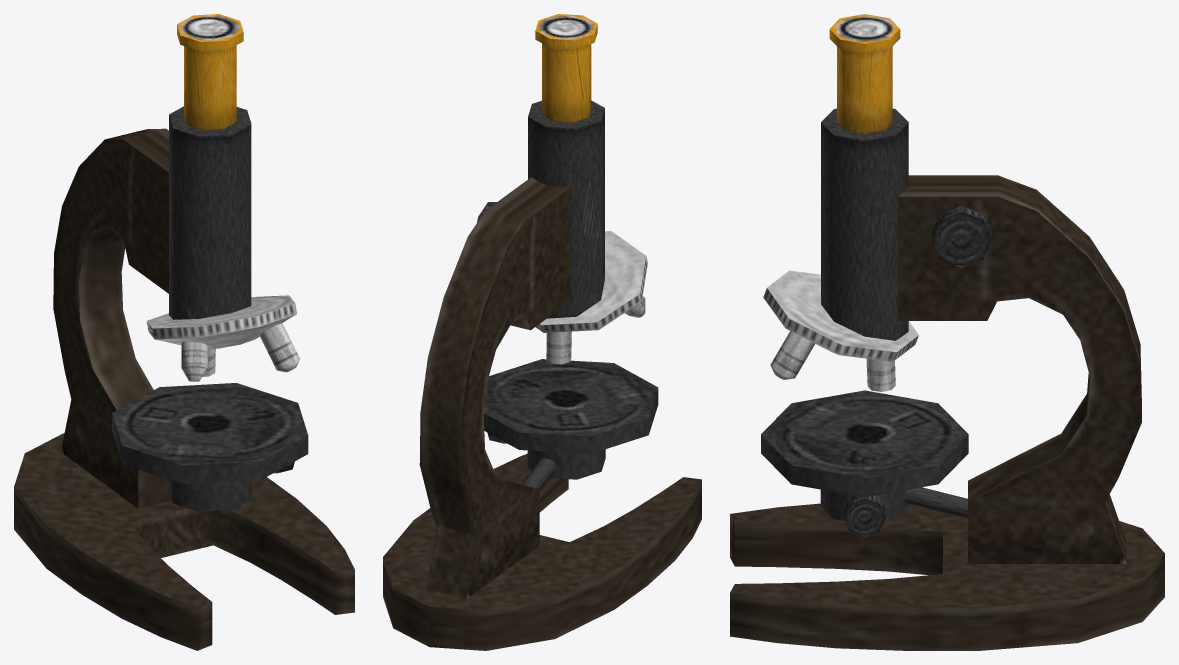
Rendered from microscope.fbx.
The picture shows the model from 3 angles, left to right: view 1: azimuth 30°, elevation 25°; view 2: azimuth 150°, elevation 25°; view 3: azimuth 270°, elevation 25°; orthographic projection. The views are drawn at different scales.
Visible parts, largest first — view 1: polySurface21; view 2: polySurface21; view 3: polySurface21.
Part boxes in pixels (x1,y1,x2,y2): polySurface21: [14, 14, 354, 650]; polySurface21: [383, 14, 701, 650]; polySurface21: [730, 14, 1164, 650].
Size of the model in its own units: 4.24 by 10.45 by 7.25.
